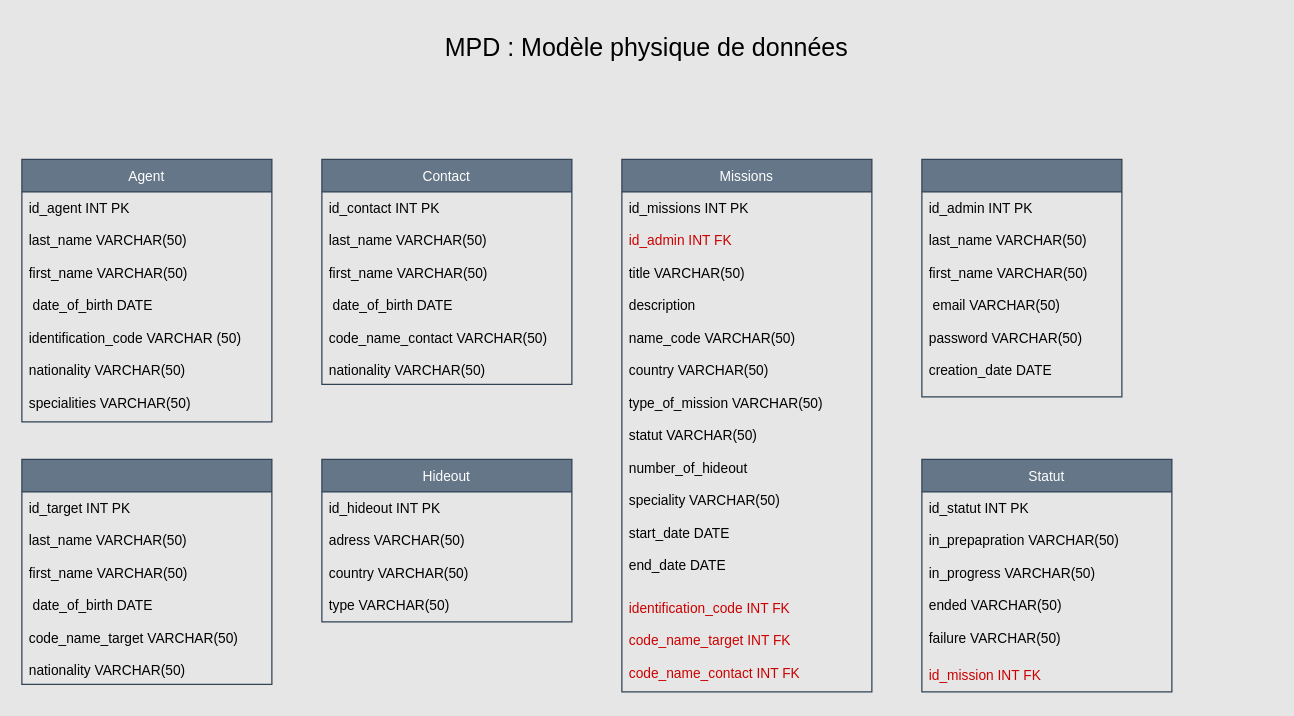
Image size: 1294x716. Some labels were removed from this diagram. Here are the shapes that lost their labels. From the top down, the box of each, then its label:
(921, 158, 1122, 397): Administrator
(21, 458, 272, 684): Targets
